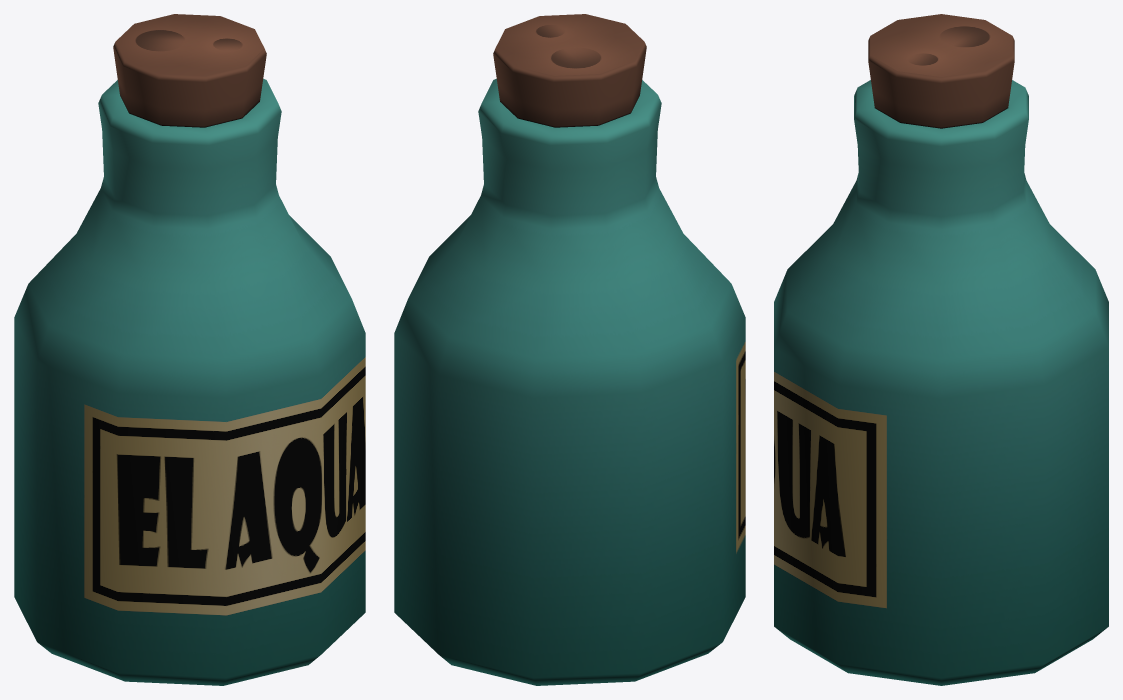
Rendered from sm_water_bottle.fbx.
3 renders of one model, left to right at view 1: azimuth 30°, elevation 25°; view 2: azimuth 150°, elevation 25°; view 3: azimuth 270°, elevation 25°, orthographic.
Visible parts, largest first — view 1: sm_poison_bottle; view 2: sm_poison_bottle; view 3: sm_poison_bottle.
Boxes of the visible parts, bbox=[...] form: sm_poison_bottle: bbox=[14, 14, 365, 685]; sm_poison_bottle: bbox=[394, 14, 745, 685]; sm_poison_bottle: bbox=[774, 14, 1108, 685].
Bounding box in the file's own units: 16.24 × 29.16 × 15.44.
